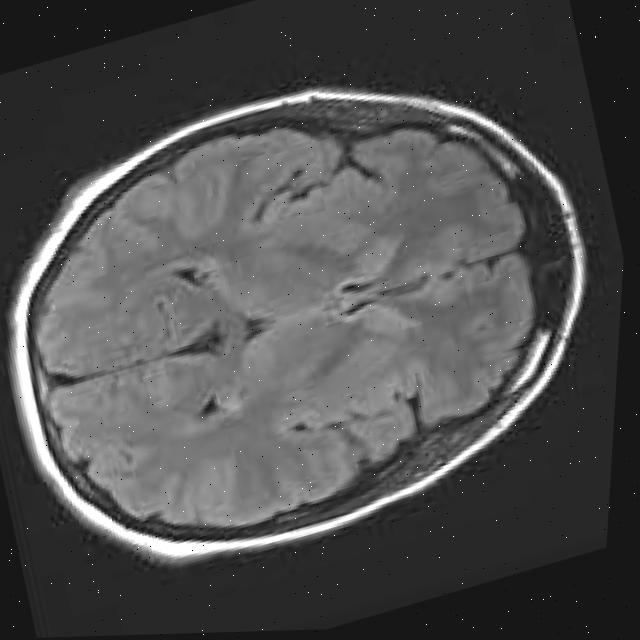NoTumor: (0, 2, 639, 615)
